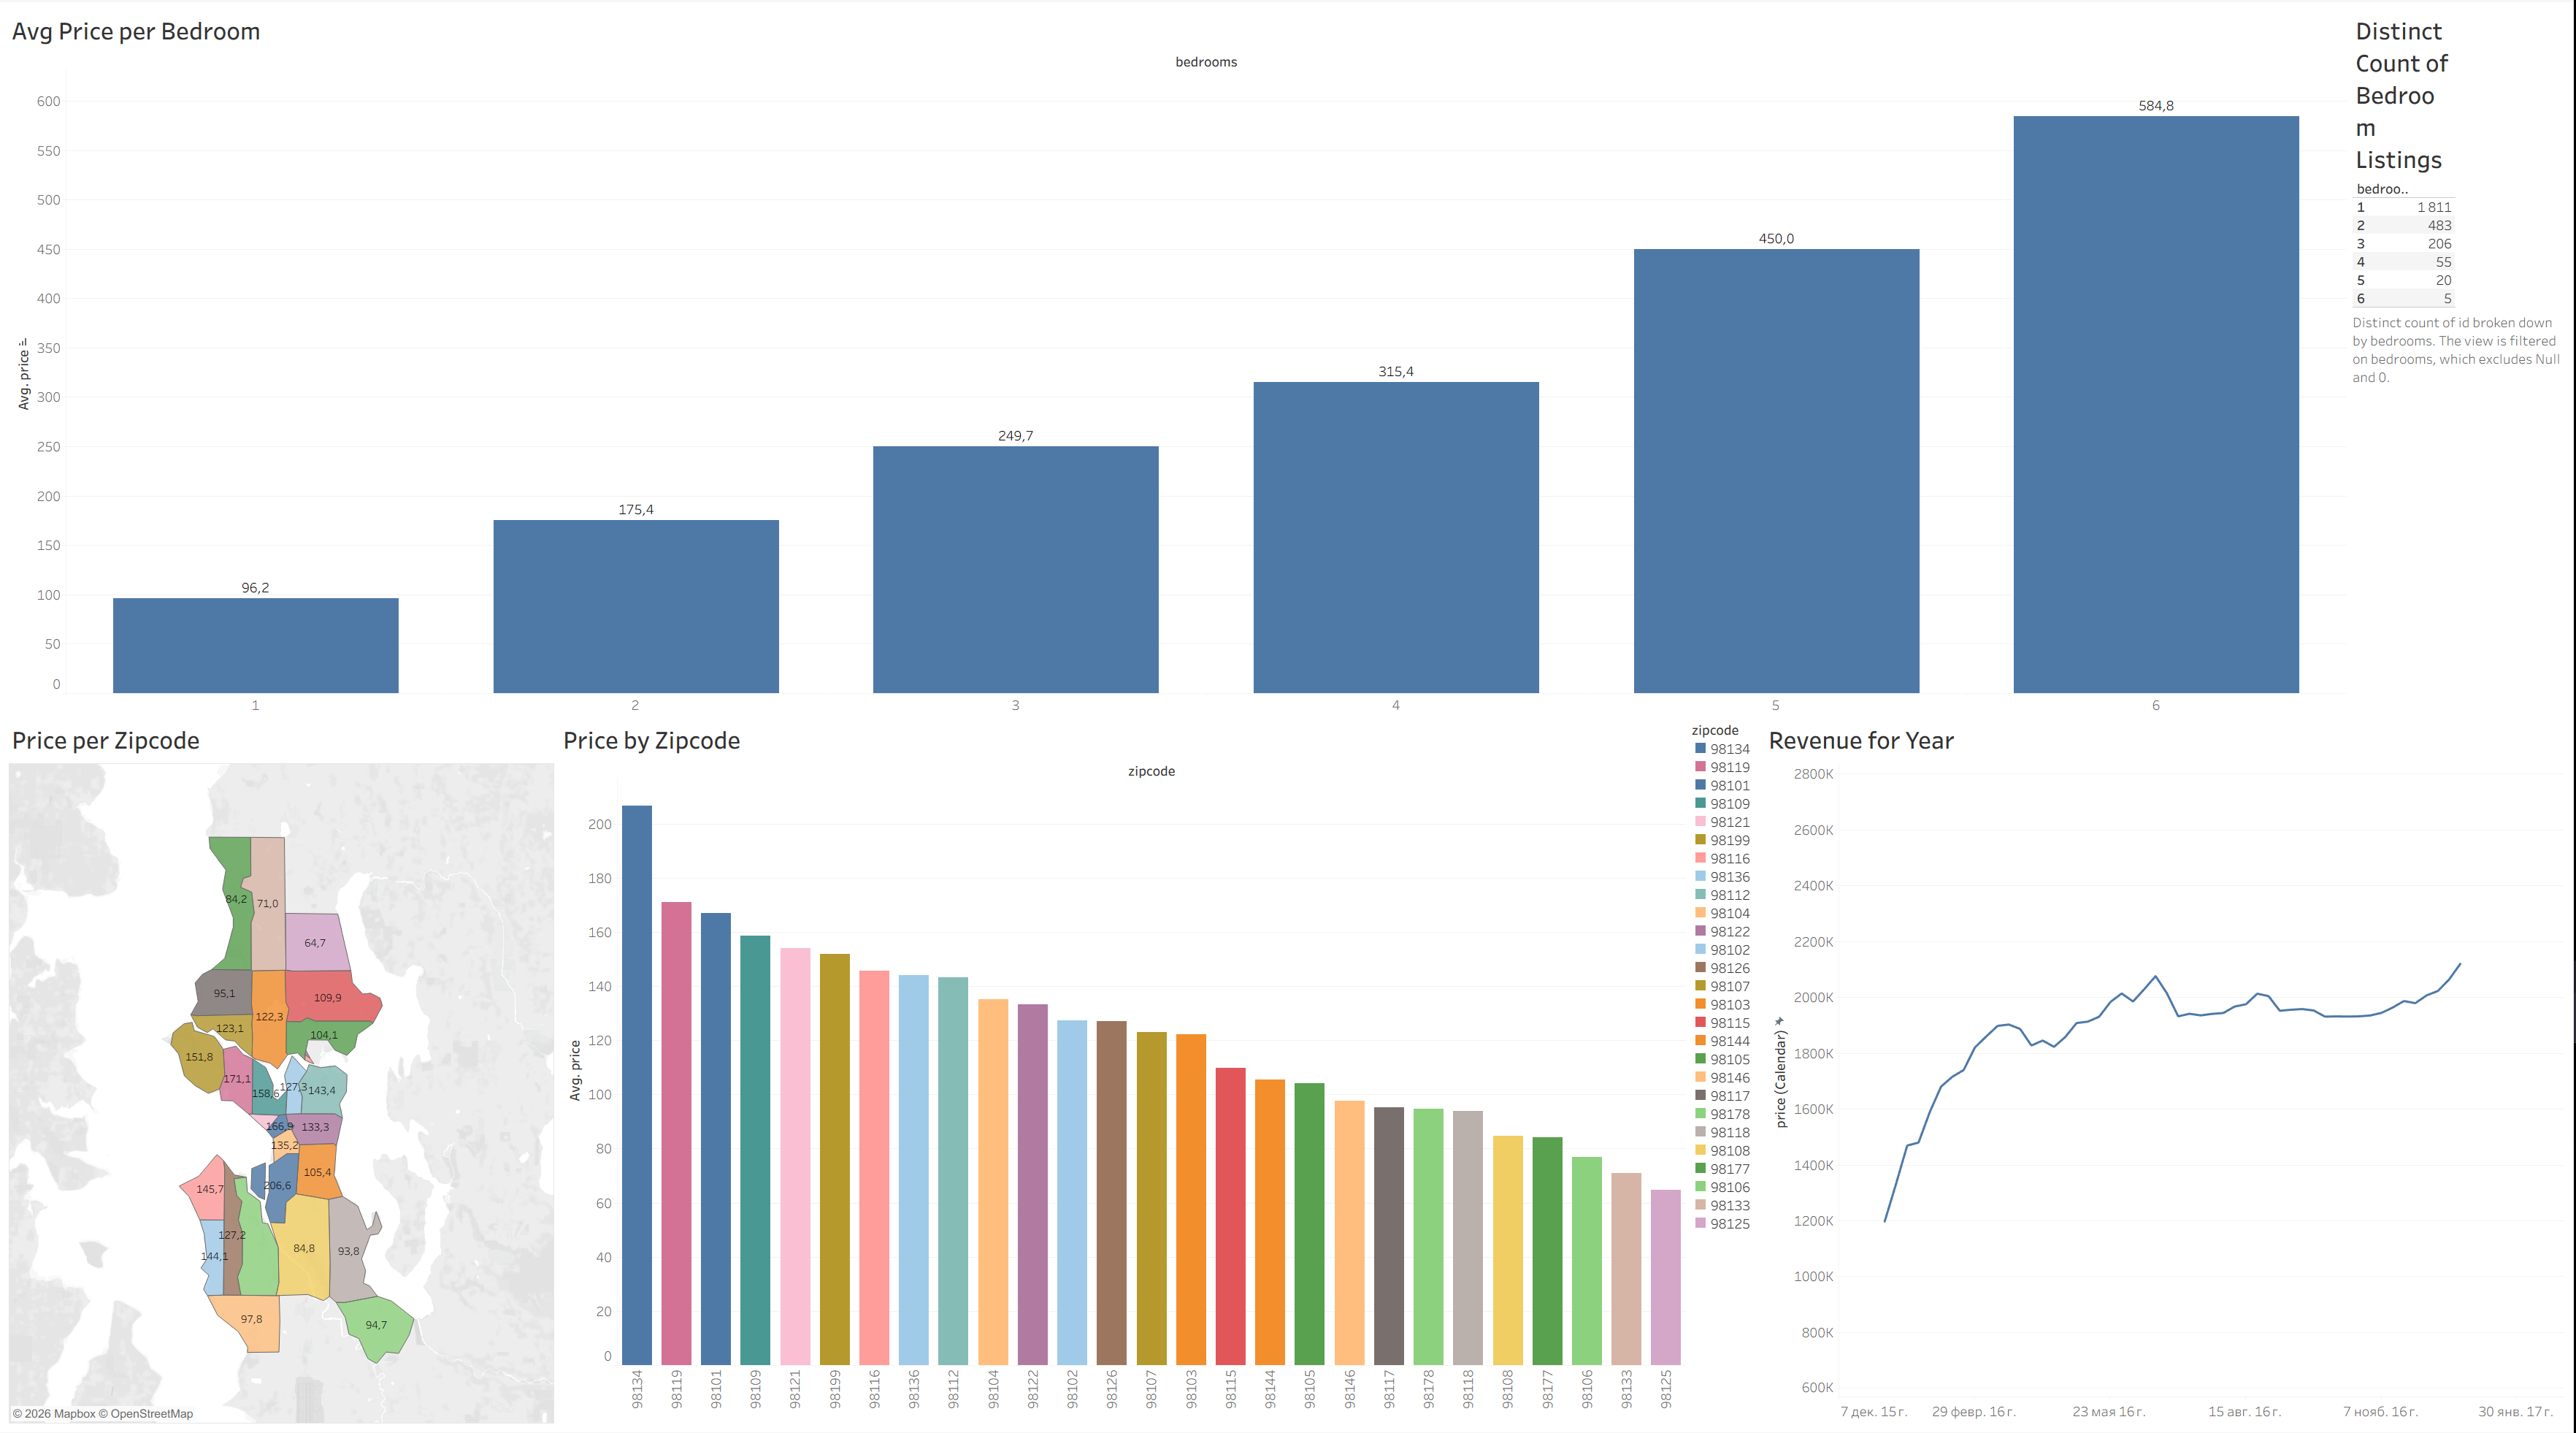

What the dashboard file says about the page in this screenshot:
{"tool":"tableau","page":{"name":"Dashboard 1","canvas":[1000,1000],"units":"permille","ordinal":0},"visuals":[{"type":"worksheet","title":"Sheet 4","mark":"Automatic","rows":["price"],"cols":["bedrooms"],"box":[2.3,4.1,910.9,495.9]},{"type":"worksheet","title":"Sheet 5","mark":"Automatic","rows":["bedrooms"],"box":[913.2,4.1,84.6,495.9]},{"type":"worksheet","title":"Sheet 2","mark":"Multipolygon","box":[2.3,500,214.2,495.9]},{"type":"worksheet","title":"Sheet 1","mark":"Automatic","rows":["price"],"cols":["zipcode"],"box":[216.5,500,439.8,495.9]},{"type":"legend","title":"Sheet 1","param":"[federated.1yezenq0cnsao9153ca150puxhtb].[none:zipcode:ok]","box":[656.4,500,28.7,495.9]},{"type":"worksheet","title":"Sheet 3","mark":"Automatic","rows":["price (Calendar)"],"cols":["date"],"box":[685,500,312.7,495.9]}]}

Visuals, with their boxes on the dashboard's canvas, which has no fixed pixel size, in thousandths of its width and height (x1, y1, x2, y2). These are canvas units, not pixel positions in the 2576x1433 screenshot, which may show the page scaled, cropped or inside an application window:
"Sheet 4" worksheet: pyautogui.locateOnScreen(2, 4, 913, 500)
"Sheet 5" worksheet: pyautogui.locateOnScreen(913, 4, 998, 500)
"Sheet 2" worksheet (Multipolygon marks): pyautogui.locateOnScreen(2, 500, 216, 996)
"Sheet 1" worksheet: pyautogui.locateOnScreen(216, 500, 656, 996)
"Sheet 1" legend: pyautogui.locateOnScreen(656, 500, 685, 996)
"Sheet 3" worksheet: pyautogui.locateOnScreen(685, 500, 998, 996)
